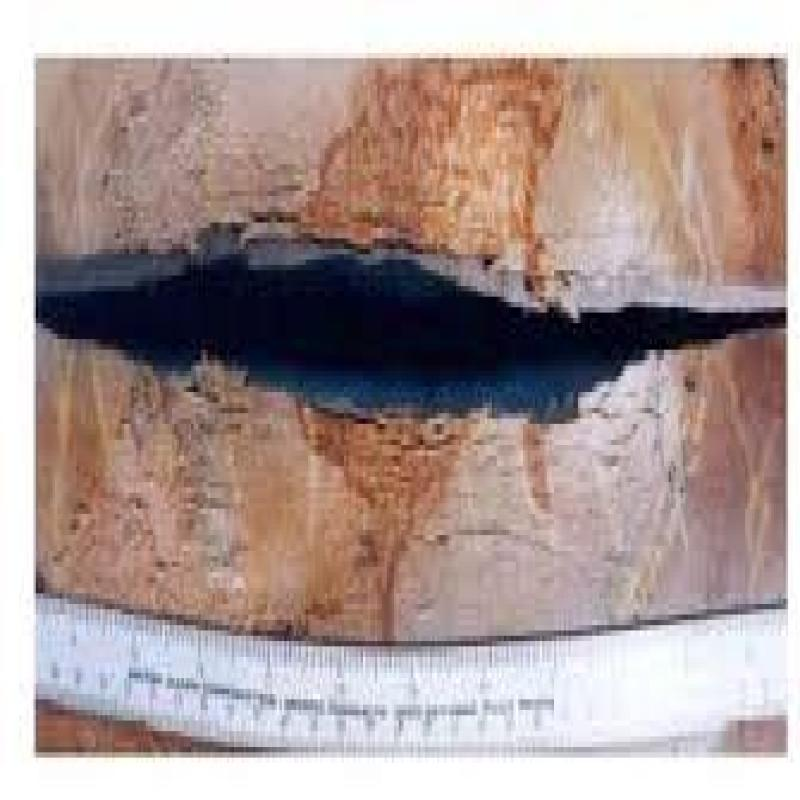Fracture: (40, 229, 794, 429)
